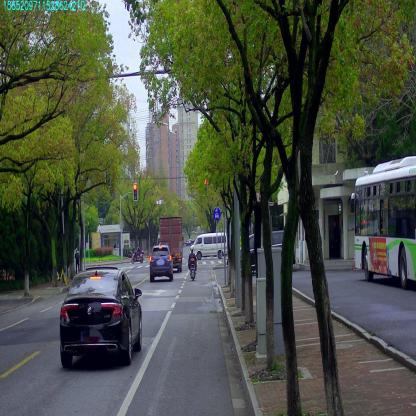traffic-light: (203, 176, 208, 195), (133, 184, 137, 200)
